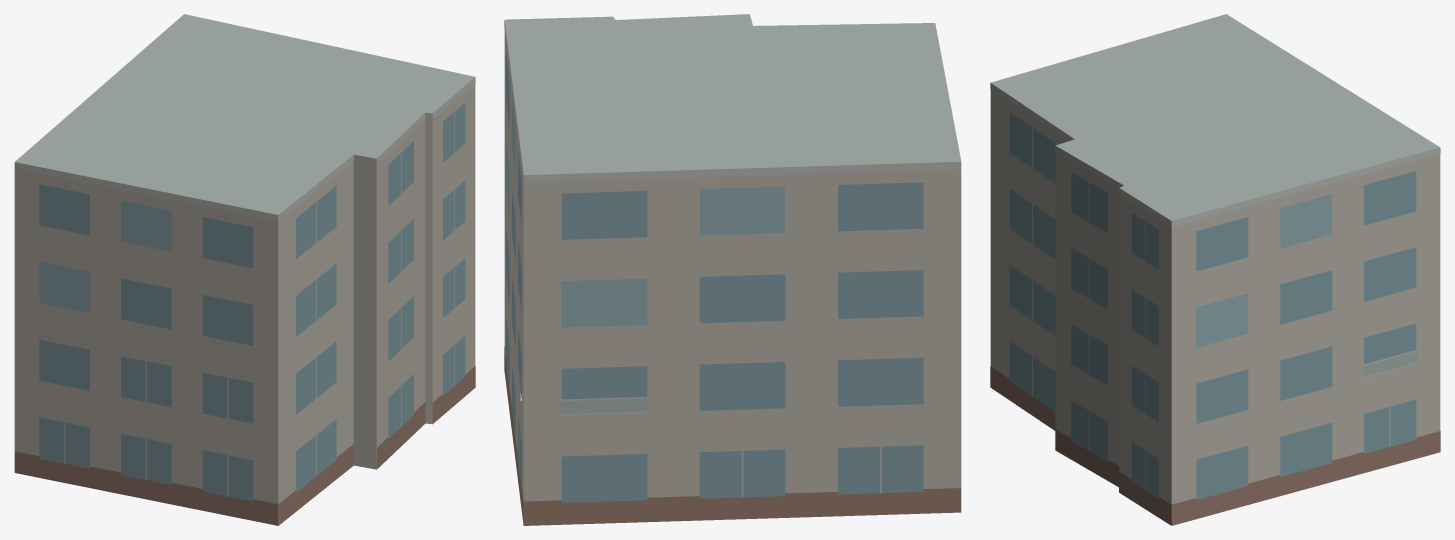
File: survey-upis-32616022.glb
3 renders of one model, left to right at view 1: azimuth 30°, elevation 25°; view 2: azimuth 150°, elevation 25°; view 3: azimuth 270°, elevation 25°, orthographic. The views are drawn at different scales.
Parts seen in each view (by area): view 1: survey-upis-32616022.tmp; view 2: survey-upis-32616022.tmp; view 3: survey-upis-32616022.tmp.
Part boxes in pixels (bbox=[...]): survey-upis-32616022.tmp: bbox=[14, 14, 475, 525]; survey-upis-32616022.tmp: bbox=[504, 14, 961, 525]; survey-upis-32616022.tmp: bbox=[990, 14, 1440, 525].
Bounding box in the file's own units: 17.06 × 11.7 × 15.66.
